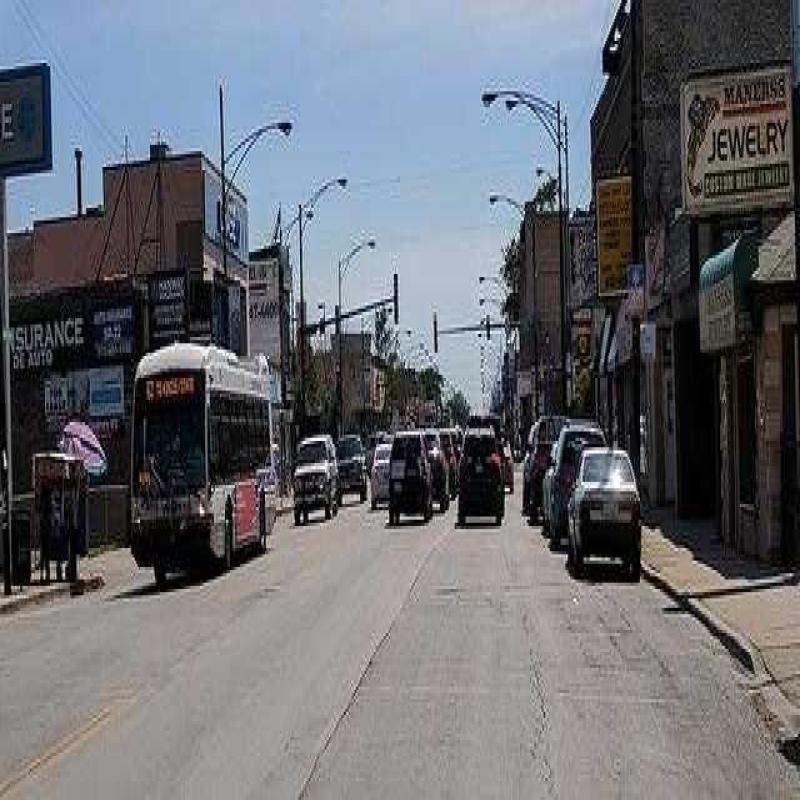bus: (127, 319, 290, 567)
